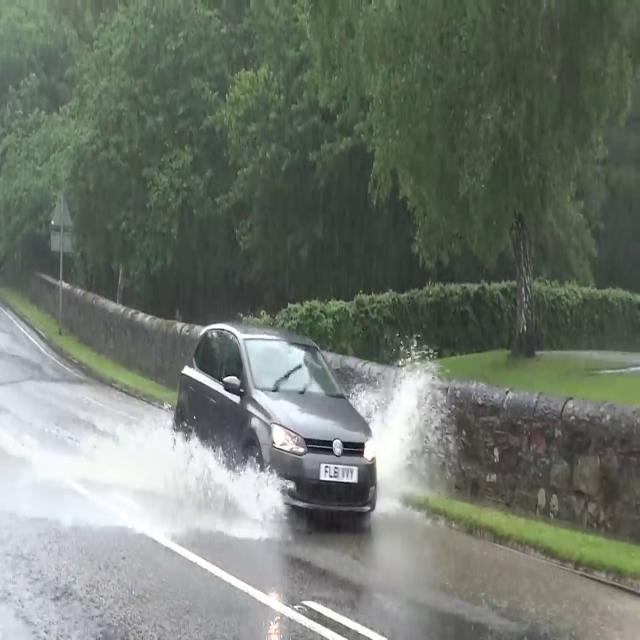license-plate-annotation: (318, 459, 364, 487)
